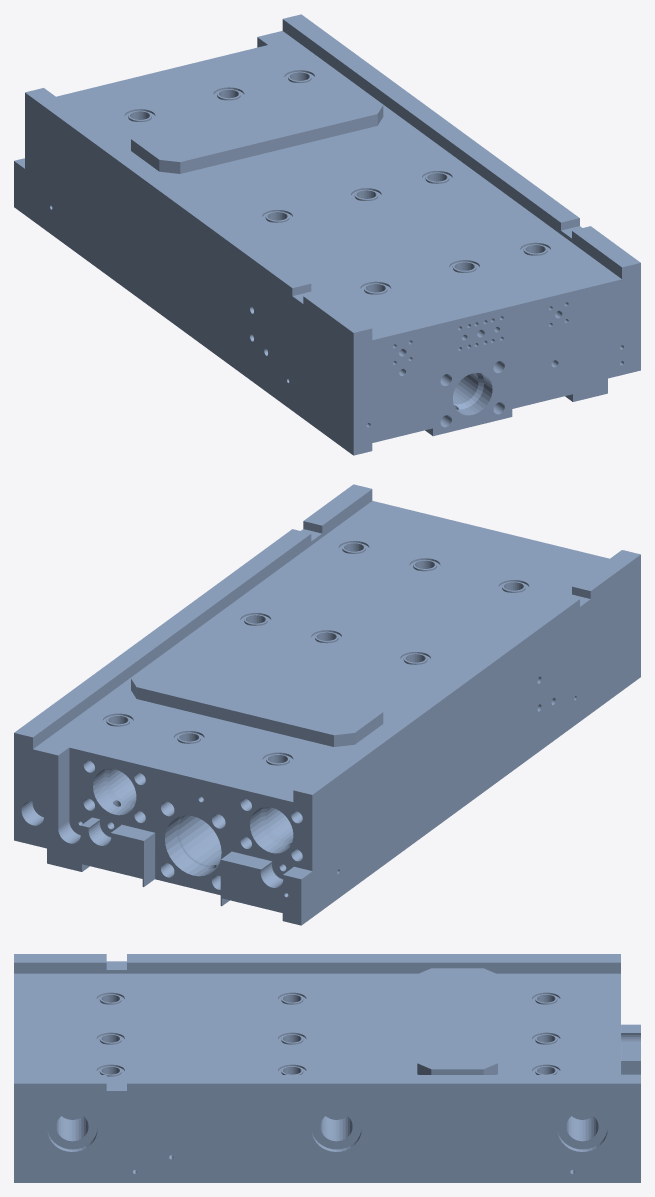
The model's file is frame.glb.
3 renders of one model, top to bottom at view 1: azimuth 30°, elevation 25°; view 2: azimuth 150°, elevation 25°; view 3: azimuth 270°, elevation 25°, orthographic. The views are drawn at different scales.
Parts seen in each view (by area): view 1: part_0; view 2: part_0; view 3: part_0.
Boxes of the visible parts, x1=… form: part_0: x1=14, y1=14, x2=640, y2=455; part_0: x1=14, y1=484, x2=640, y2=925; part_0: x1=14, y1=954, x2=640, y2=1182.
Bounding box in the file's own units: 1.17 × 0.4785 × 2.4.
